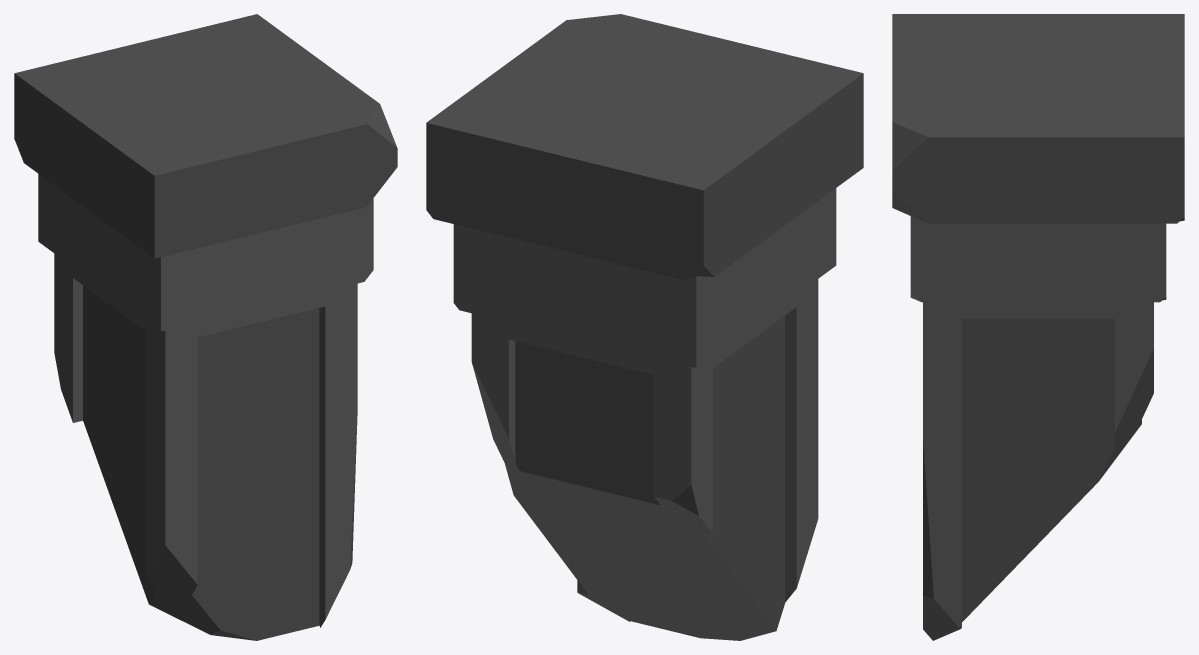
File: Ruins_03.fbx
The picture shows the model from 3 angles, left to right: view 1: azimuth 30°, elevation 25°; view 2: azimuth 150°, elevation 25°; view 3: azimuth 270°, elevation 25°; orthographic projection. The views are drawn at different scales.
Parts seen in each view (by area): view 1: Ruins_03_LOD0; view 2: Ruins_03_LOD0; view 3: Ruins_03_LOD0.
Boxes of the visible parts, left/top/right/bottom form: Ruins_03_LOD0: left=14, top=14, right=397, bottom=640; Ruins_03_LOD0: left=426, top=14, right=863, bottom=640; Ruins_03_LOD0: left=892, top=14, right=1184, bottom=640.
Size of what is drawn, in the model's own units: 91.81 by 185 by 91.81.
